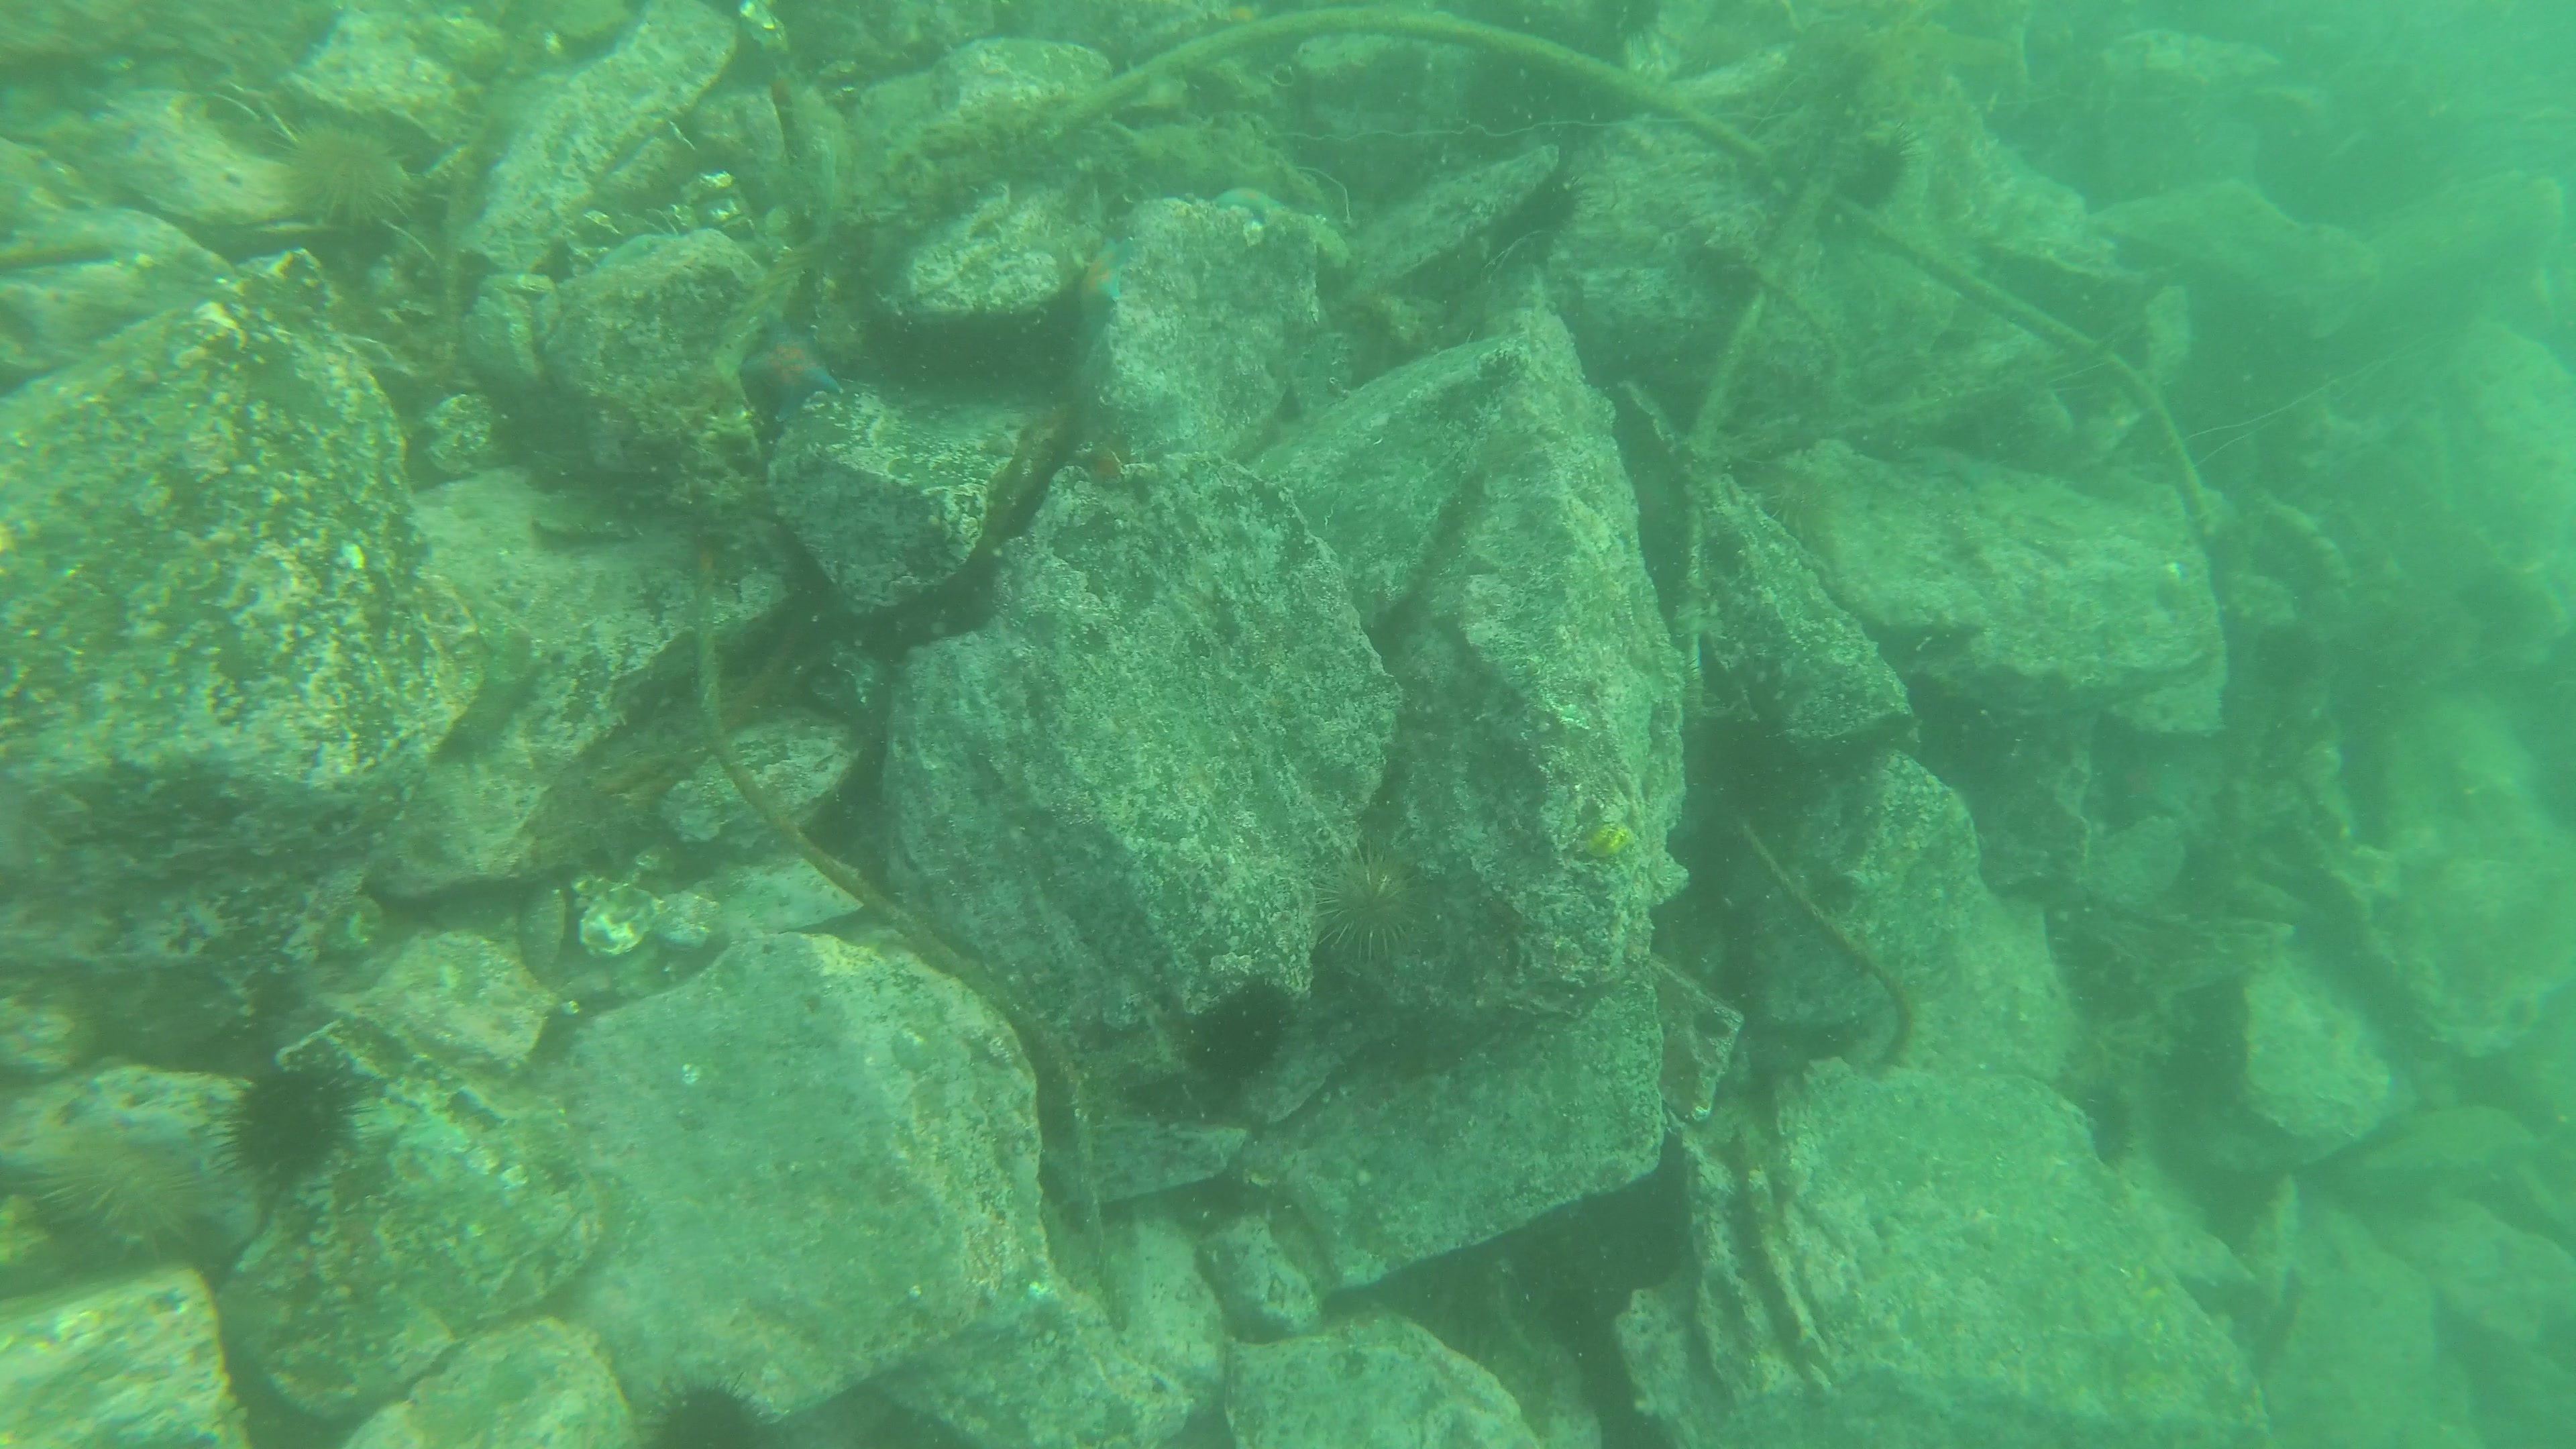echinus: (35, 1131, 196, 1263), (207, 1067, 357, 1201), (281, 115, 409, 241), (1180, 970, 1299, 1104), (1309, 849, 1428, 978), (625, 1371, 786, 1449)
starfish: (747, 324, 856, 426), (1070, 228, 1146, 324), (1205, 177, 1299, 232)
